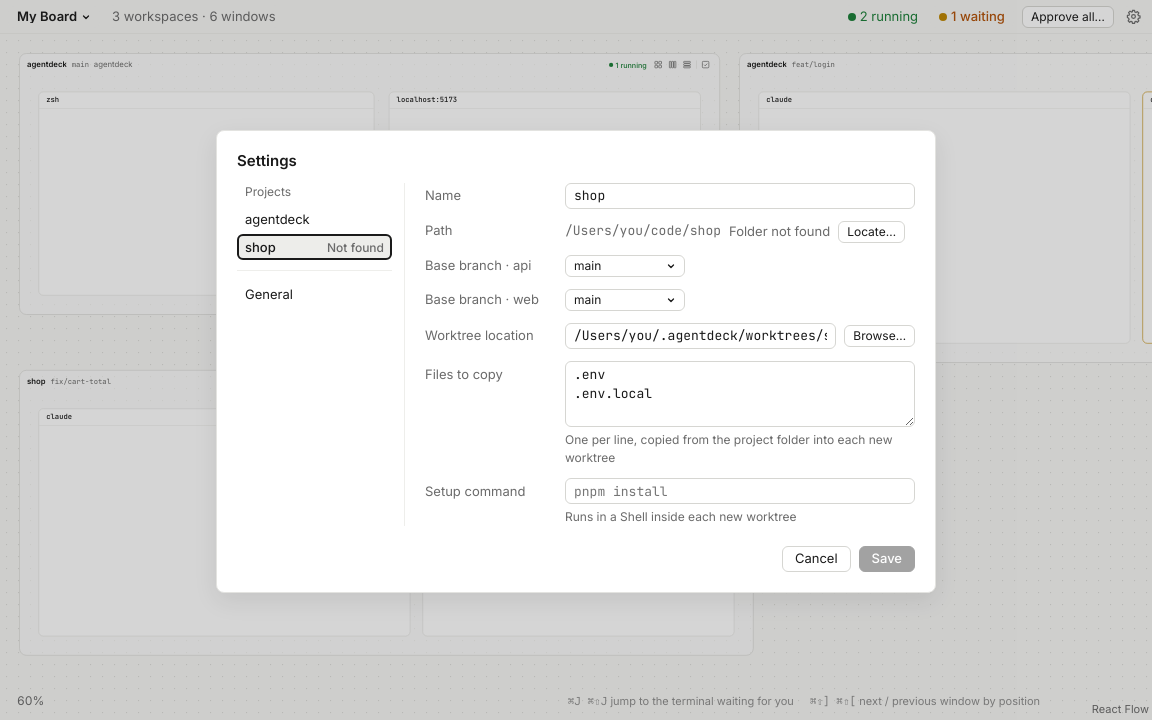
Settings dialog (TC-15) › a missing project offers Locate…
Check: the text "Folder not found" is shown, box [729,222,830,241]
Click the button "Locate…" at x=872, y=232, box [838,221,905,243]
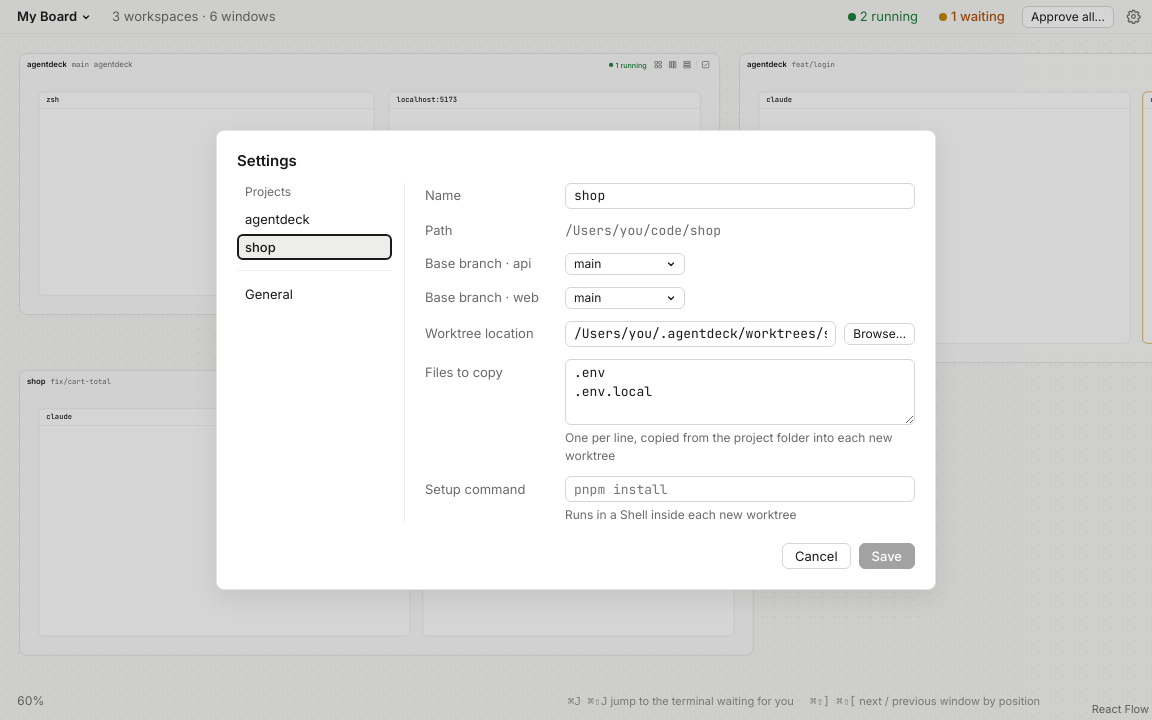
Check: the text "Folder not found" is gone
